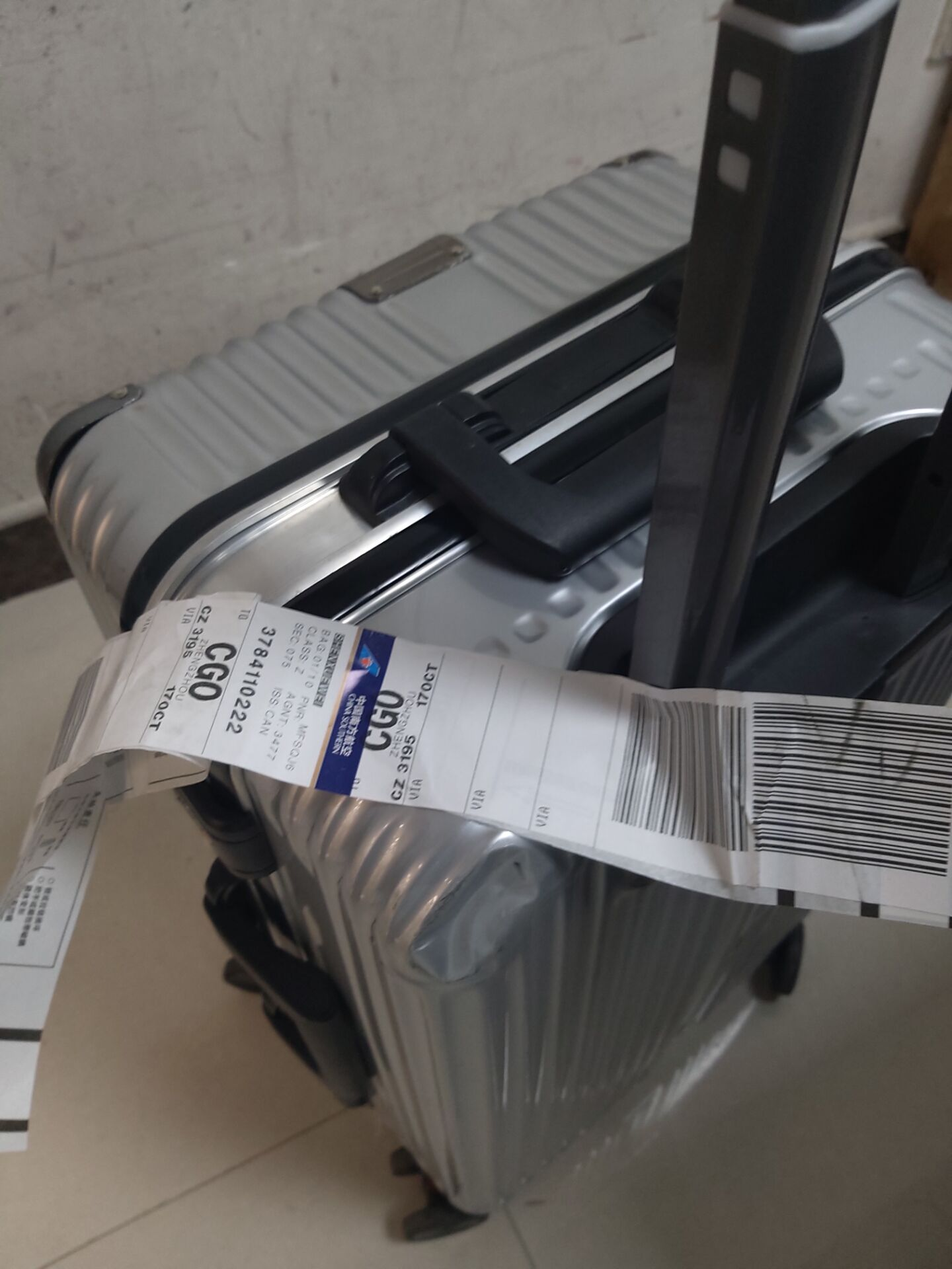rupture: (407, 841, 543, 981)
